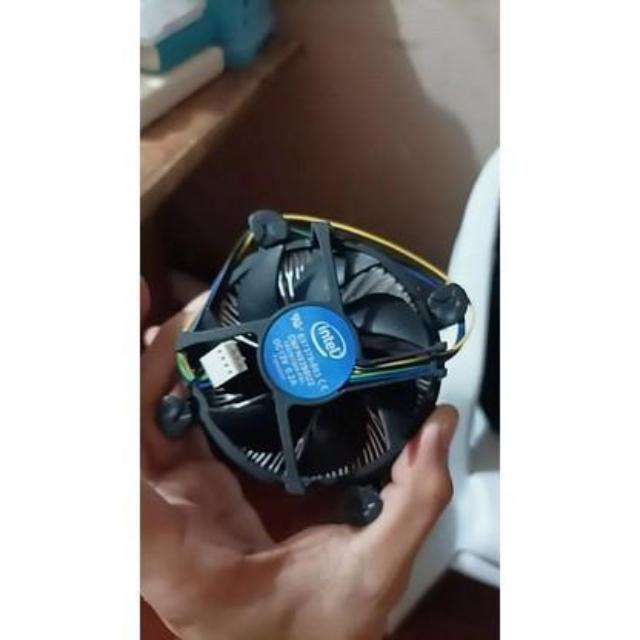CPU_Fan: (152, 202, 466, 530)
